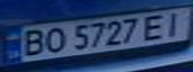2: (103, 17, 127, 47)
5: (69, 21, 90, 51)
7: (118, 16, 145, 44), (87, 19, 109, 48)
B: (15, 27, 51, 57)
E: (139, 11, 172, 42)
I: (157, 9, 190, 37)
O: (39, 25, 69, 55)
